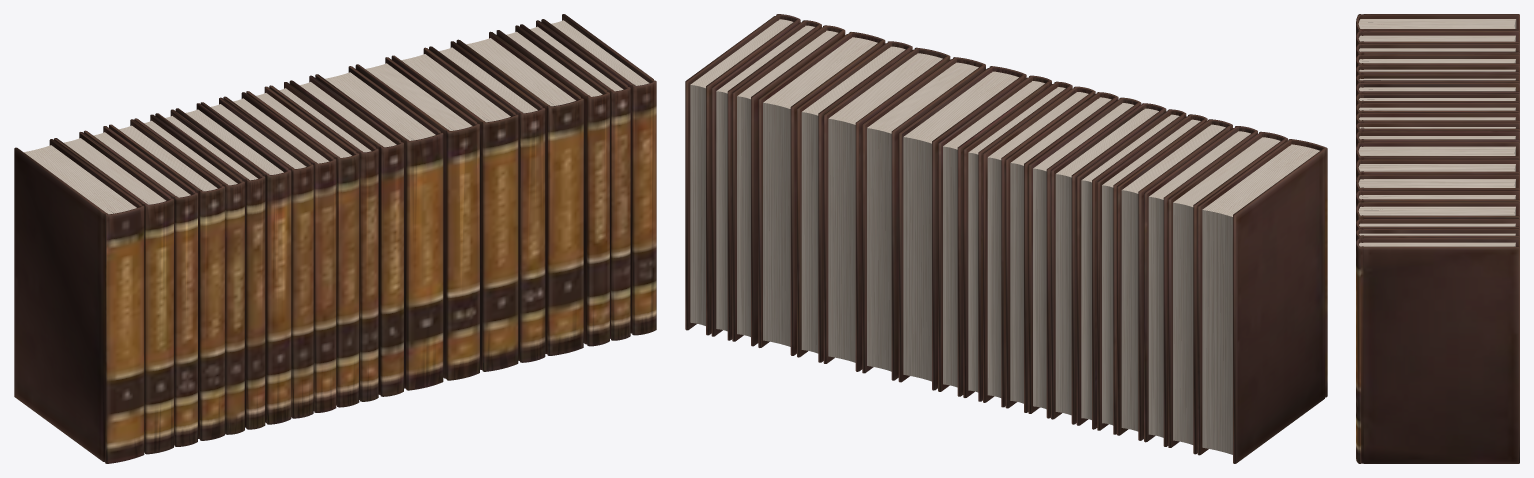
The model's file is book_encyclopedia_set_01.glb.
The picture shows the model from 3 angles, left to right: view 1: azimuth 30°, elevation 25°; view 2: azimuth 150°, elevation 25°; view 3: azimuth 270°, elevation 25°; orthographic projection. The views are drawn at different scales.
Parts seen in each view (by area): view 1: book_encyclopedia_set_01_book01, book_encyclopedia_set_01_book13, book_encyclopedia_set_01_book15, book_encyclopedia_set_01_book17, book_encyclopedia_set_01_book14, book_encyclopedia_set_01_book02, book_encyclopedia_set_01_book16, book_encyclopedia_set_01_book04, book_encyclopedia_set_01_book18, book_encyclopedia_set_01_book20, book_encyclopedia_set_01_book07, book_encyclopedia_set_01_book12 (+8 smaller); view 2: book_encyclopedia_set_01_book01, book_encyclopedia_set_01_book13, book_encyclopedia_set_01_book15, book_encyclopedia_set_01_book17, book_encyclopedia_set_01_book14, book_encyclopedia_set_01_book02, book_encyclopedia_set_01_book04, book_encyclopedia_set_01_book16, book_encyclopedia_set_01_book20, book_encyclopedia_set_01_book18, book_encyclopedia_set_01_book07, book_encyclopedia_set_01_book12 (+8 smaller); view 3: book_encyclopedia_set_01_book20, book_encyclopedia_set_01_book13, book_encyclopedia_set_01_book01, book_encyclopedia_set_01_book17, book_encyclopedia_set_01_book15, book_encyclopedia_set_01_book14, book_encyclopedia_set_01_book02, book_encyclopedia_set_01_book16, book_encyclopedia_set_01_book03, book_encyclopedia_set_01_book12, book_encyclopedia_set_01_book04, book_encyclopedia_set_01_book07 (+8 smaller).
Boxes of the visible parts, x1=… form: book_encyclopedia_set_01_book01: x1=14, y1=139, x2=144, y2=463; book_encyclopedia_set_01_book13: x1=315, y1=66, x2=443, y2=390; book_encyclopedia_set_01_book15: x1=391, y1=47, x2=518, y2=371; book_encyclopedia_set_01_book17: x1=456, y1=31, x2=583, y2=355; book_encyclopedia_set_01_book14: x1=355, y1=57, x2=479, y2=380; book_encyclopedia_set_01_book02: x1=54, y1=132, x2=173, y2=454; book_encyclopedia_set_01_book16: x1=429, y1=41, x2=545, y2=362; book_encyclopedia_set_01_book04: x1=109, y1=119, x2=224, y2=440; book_encyclopedia_set_01_book18: x1=496, y1=25, x2=609, y2=346; book_encyclopedia_set_01_book20: x1=541, y1=14, x2=656, y2=335; book_encyclopedia_set_01_book07: x1=175, y1=103, x2=291, y2=424; book_encyclopedia_set_01_book12: x1=289, y1=75, x2=403, y2=396; book_encyclopedia_set_01_book01: x1=1197, y1=139, x2=1327, y2=463; book_encyclopedia_set_01_book13: x1=898, y1=66, x2=1026, y2=390; book_encyclopedia_set_01_book15: x1=823, y1=47, x2=950, y2=371; book_encyclopedia_set_01_book17: x1=758, y1=32, x2=885, y2=355; book_encyclopedia_set_01_book14: x1=862, y1=57, x2=985, y2=380; book_encyclopedia_set_01_book02: x1=1168, y1=131, x2=1287, y2=454; book_encyclopedia_set_01_book04: x1=1117, y1=119, x2=1232, y2=440; book_encyclopedia_set_01_book16: x1=797, y1=41, x2=912, y2=362; book_encyclopedia_set_01_book20: x1=685, y1=14, x2=800, y2=335; book_encyclopedia_set_01_book18: x1=732, y1=25, x2=845, y2=346; book_encyclopedia_set_01_book07: x1=1051, y1=103, x2=1166, y2=424; book_encyclopedia_set_01_book12: x1=938, y1=75, x2=1051, y2=396; book_encyclopedia_set_01_book20: x1=1356, y1=238, x2=1519, y2=463; book_encyclopedia_set_01_book13: x1=1356, y1=142, x2=1519, y2=165; book_encyclopedia_set_01_book01: x1=1356, y1=14, x2=1519, y2=35; book_encyclopedia_set_01_book17: x1=1356, y1=202, x2=1519, y2=221; book_encyclopedia_set_01_book15: x1=1356, y1=174, x2=1519, y2=194; book_encyclopedia_set_01_book14: x1=1356, y1=159, x2=1519, y2=180; book_encyclopedia_set_01_book02: x1=1356, y1=30, x2=1519, y2=47; book_encyclopedia_set_01_book16: x1=1356, y1=190, x2=1519, y2=222; book_encyclopedia_set_01_book03: x1=1356, y1=43, x2=1519, y2=58; book_encyclopedia_set_01_book12: x1=1356, y1=131, x2=1519, y2=149; book_encyclopedia_set_01_book04: x1=1356, y1=54, x2=1519, y2=69; book_encyclopedia_set_01_book07: x1=1356, y1=82, x2=1519, y2=96.
Bounding box in the file's own units: 0.5513 × 0.2374 × 0.1631.
Materials: 2 (2 with a texture image).
